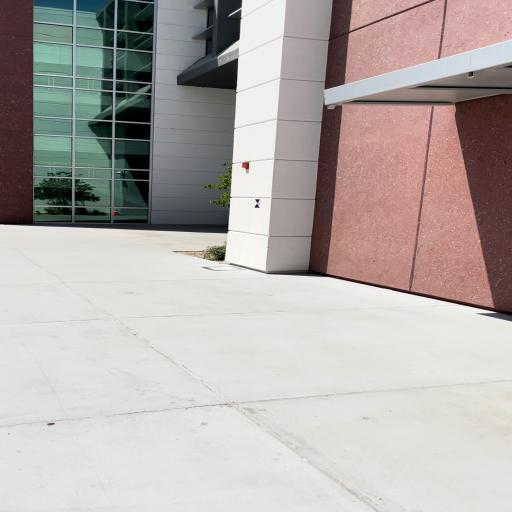target6: (255, 199, 260, 208)
